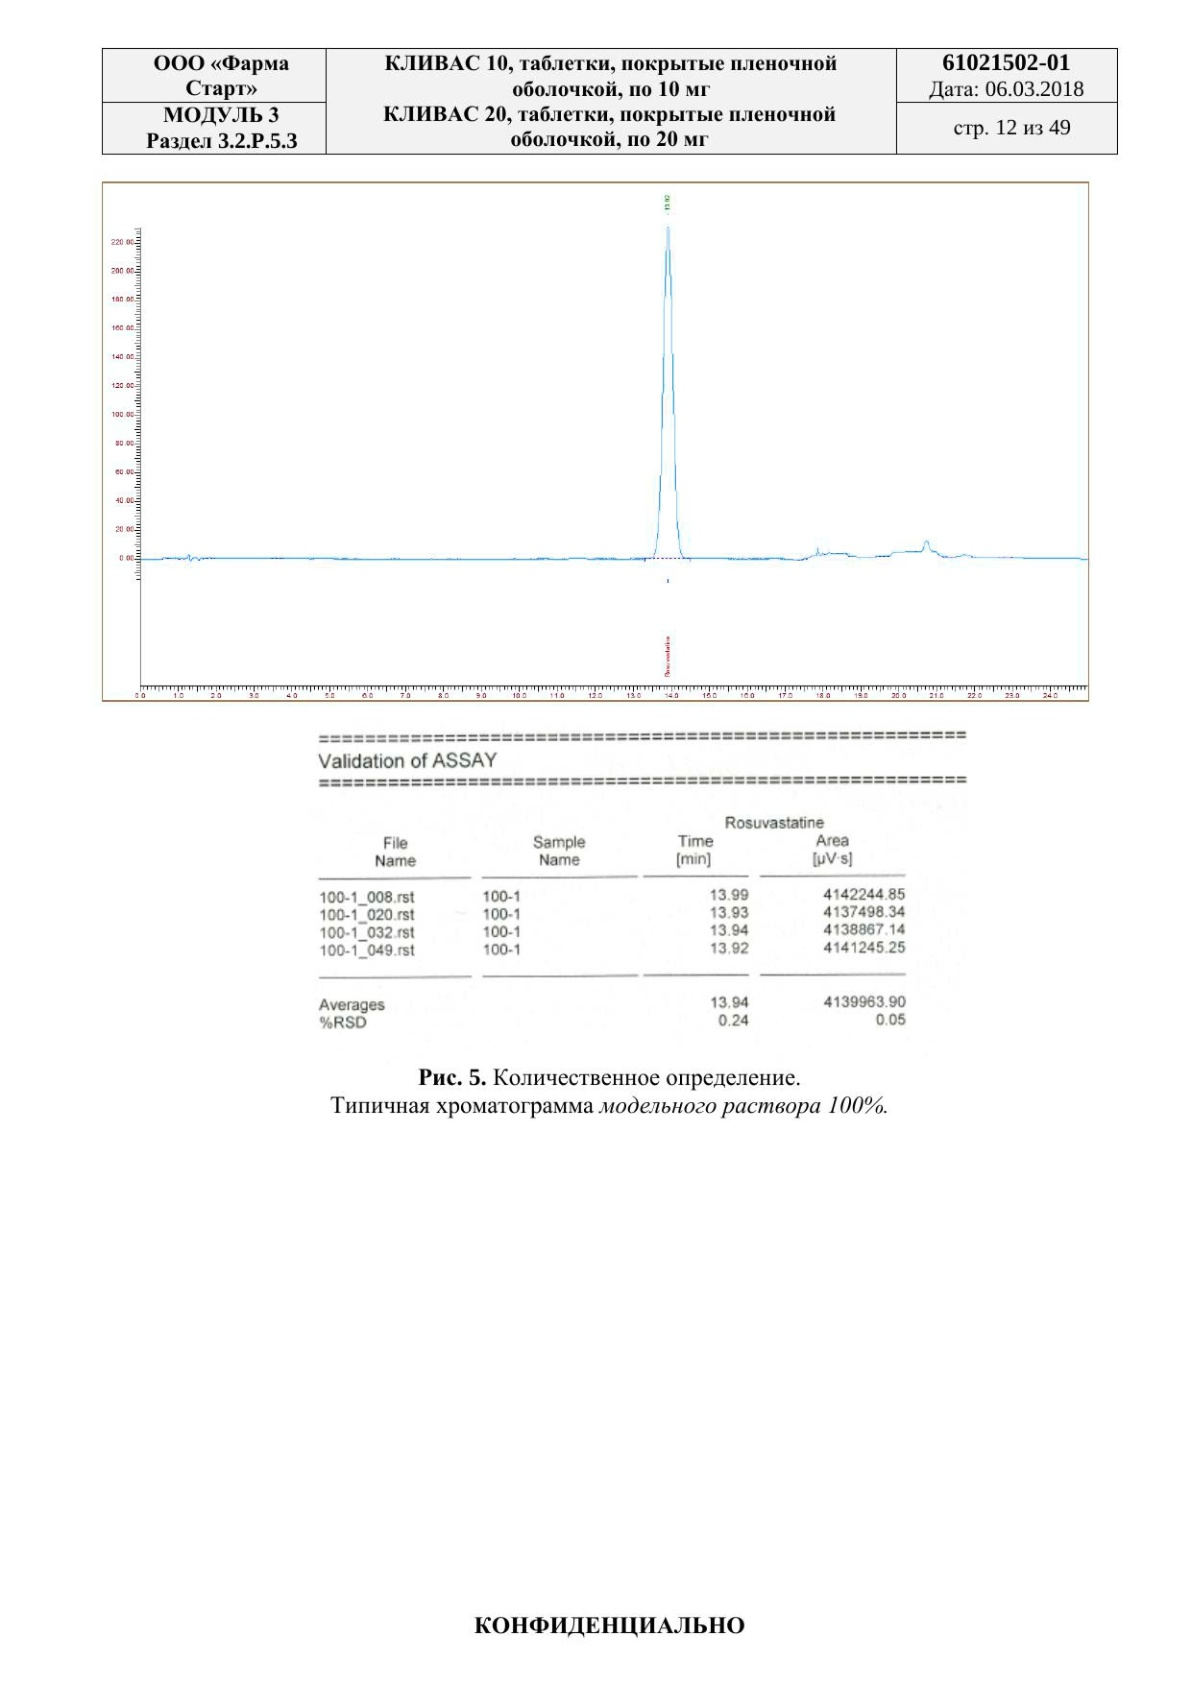merged_cells: (101, 49, 1118, 155)
partial_lined_merged_cells: (315, 812, 916, 1033)
